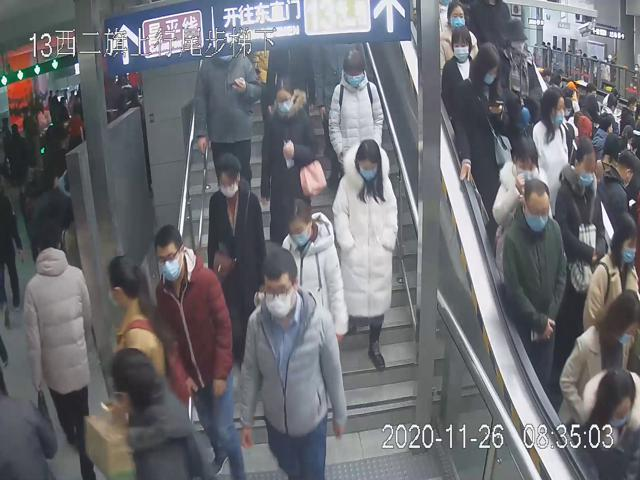person: (236, 245, 348, 480), (152, 222, 243, 479), (331, 137, 396, 375), (501, 176, 567, 387), (207, 152, 266, 375), (260, 73, 324, 245), (279, 198, 349, 348), (327, 46, 385, 172)
